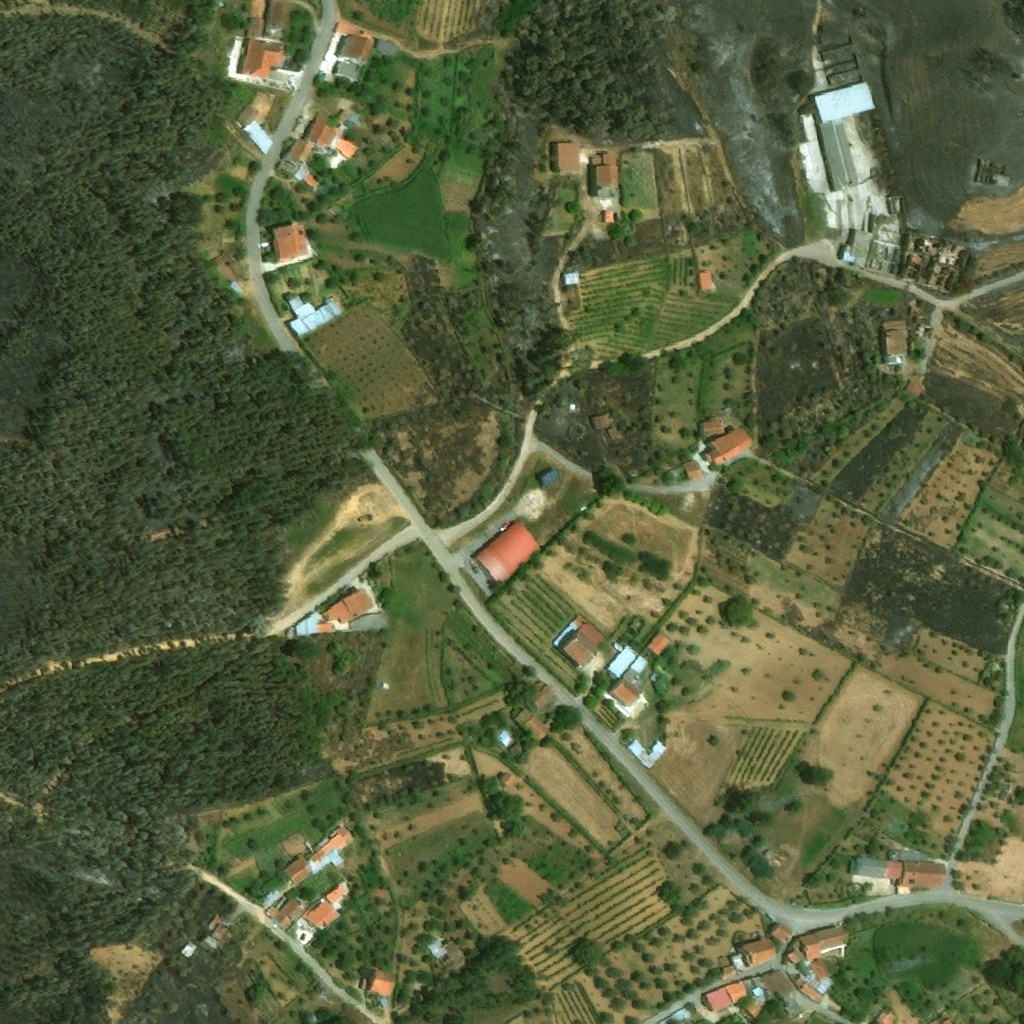0 no-damage: (471, 519, 543, 586), (849, 855, 948, 895), (815, 118, 860, 193), (551, 614, 604, 669), (809, 80, 875, 123), (286, 294, 344, 337), (704, 425, 755, 467), (236, 37, 286, 77), (321, 587, 373, 624), (309, 823, 357, 862), (834, 229, 873, 269), (278, 136, 313, 178), (512, 706, 550, 743), (271, 223, 307, 262), (626, 737, 668, 770), (590, 152, 619, 197), (264, 898, 304, 930), (606, 639, 638, 678), (742, 934, 778, 968), (241, 119, 273, 156), (302, 897, 340, 928), (882, 320, 907, 366), (339, 33, 375, 64), (283, 855, 316, 887), (304, 119, 337, 149), (293, 610, 331, 636), (760, 968, 793, 997), (815, 923, 851, 949), (332, 58, 365, 85), (612, 679, 641, 708), (656, 1003, 697, 1023), (366, 969, 396, 996), (702, 986, 731, 1012), (348, 611, 386, 630), (325, 879, 352, 904), (798, 932, 823, 959), (646, 631, 671, 657), (529, 685, 554, 710), (771, 921, 795, 945), (534, 466, 560, 488), (234, 102, 258, 125), (722, 980, 745, 1004), (887, 847, 928, 860), (264, 0, 286, 24), (375, 37, 401, 57), (210, 920, 232, 943), (798, 982, 822, 1003), (744, 998, 766, 1020), (590, 411, 614, 430), (810, 958, 831, 979), (682, 459, 702, 481), (629, 654, 648, 674), (496, 728, 515, 748), (334, 21, 358, 36), (874, 1008, 896, 1023), (666, 467, 684, 485), (786, 947, 803, 965), (247, 18, 263, 37), (699, 271, 713, 292), (719, 964, 736, 981), (248, 0, 264, 18), (702, 421, 722, 435), (203, 934, 220, 950), (731, 953, 745, 972), (498, 771, 514, 787), (605, 426, 620, 442), (207, 915, 221, 930), (356, 29, 376, 39), (315, 111, 329, 125), (741, 977, 755, 991), (750, 974, 762, 986), (602, 210, 613, 222), (751, 985, 763, 996), (359, 976, 366, 990)
3 destroyed: (901, 255, 923, 283)
